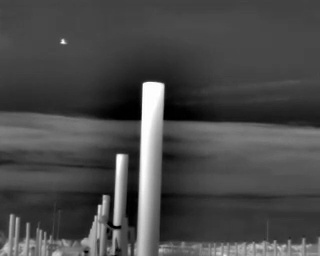BIRD: (58, 36, 69, 48)
